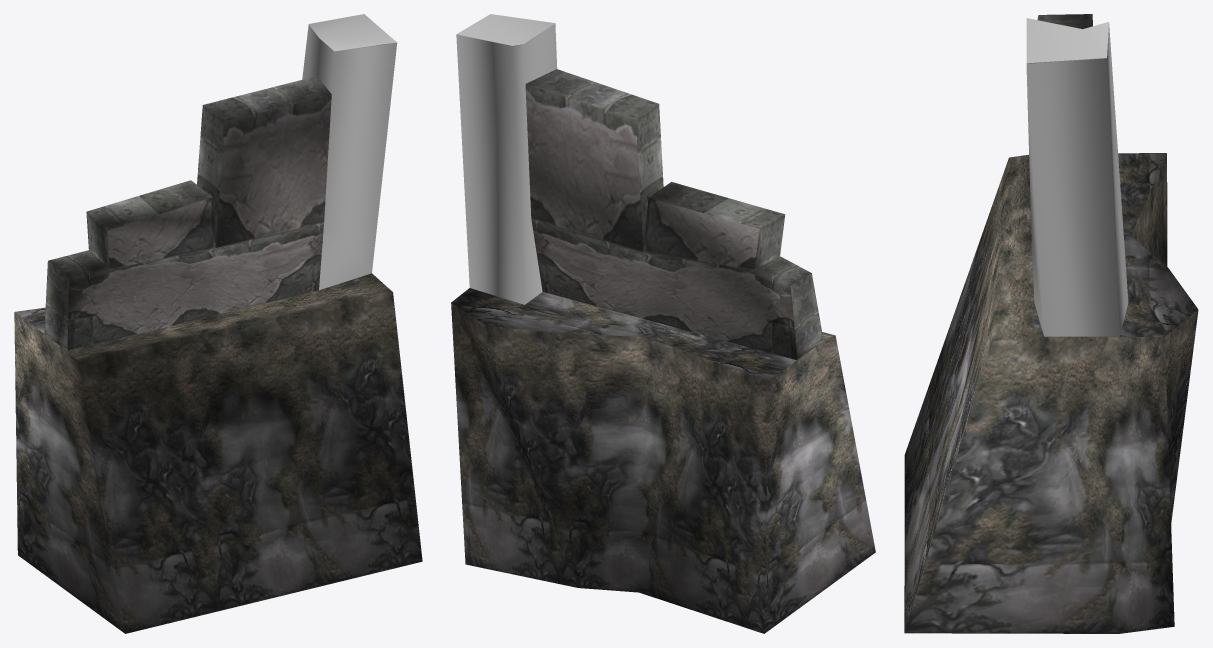
File: duskwoodruins03.obj
The picture shows the model from 3 angles, left to right: view 1: azimuth 30°, elevation 25°; view 2: azimuth 150°, elevation 25°; view 3: azimuth 270°, elevation 25°; orthographic projection. The views are drawn at different scales.
Parts seen in each view (by area): view 1: DUSKWOODRUINS032, DUSKWOODRUINS030, DUSKWOODRUINS031; view 2: DUSKWOODRUINS032, DUSKWOODRUINS030, DUSKWOODRUINS031; view 3: DUSKWOODRUINS032, DUSKWOODRUINS031, DUSKWOODRUINS030.
Part boxes in pixels (x1,y1,x2,y2): DUSKWOODRUINS032: (14, 273, 422, 633); DUSKWOODRUINS030: (44, 76, 331, 350); DUSKWOODRUINS031: (302, 14, 397, 290); DUSKWOODRUINS032: (451, 288, 875, 633); DUSKWOODRUINS030: (525, 69, 823, 360); DUSKWOODRUINS031: (456, 14, 557, 304); DUSKWOODRUINS032: (904, 153, 1198, 633); DUSKWOODRUINS031: (1026, 18, 1128, 336); DUSKWOODRUINS030: (1037, 14, 1092, 28).
Bounding box in the file's own units: 5.73 × 8.17 × 3.65.
